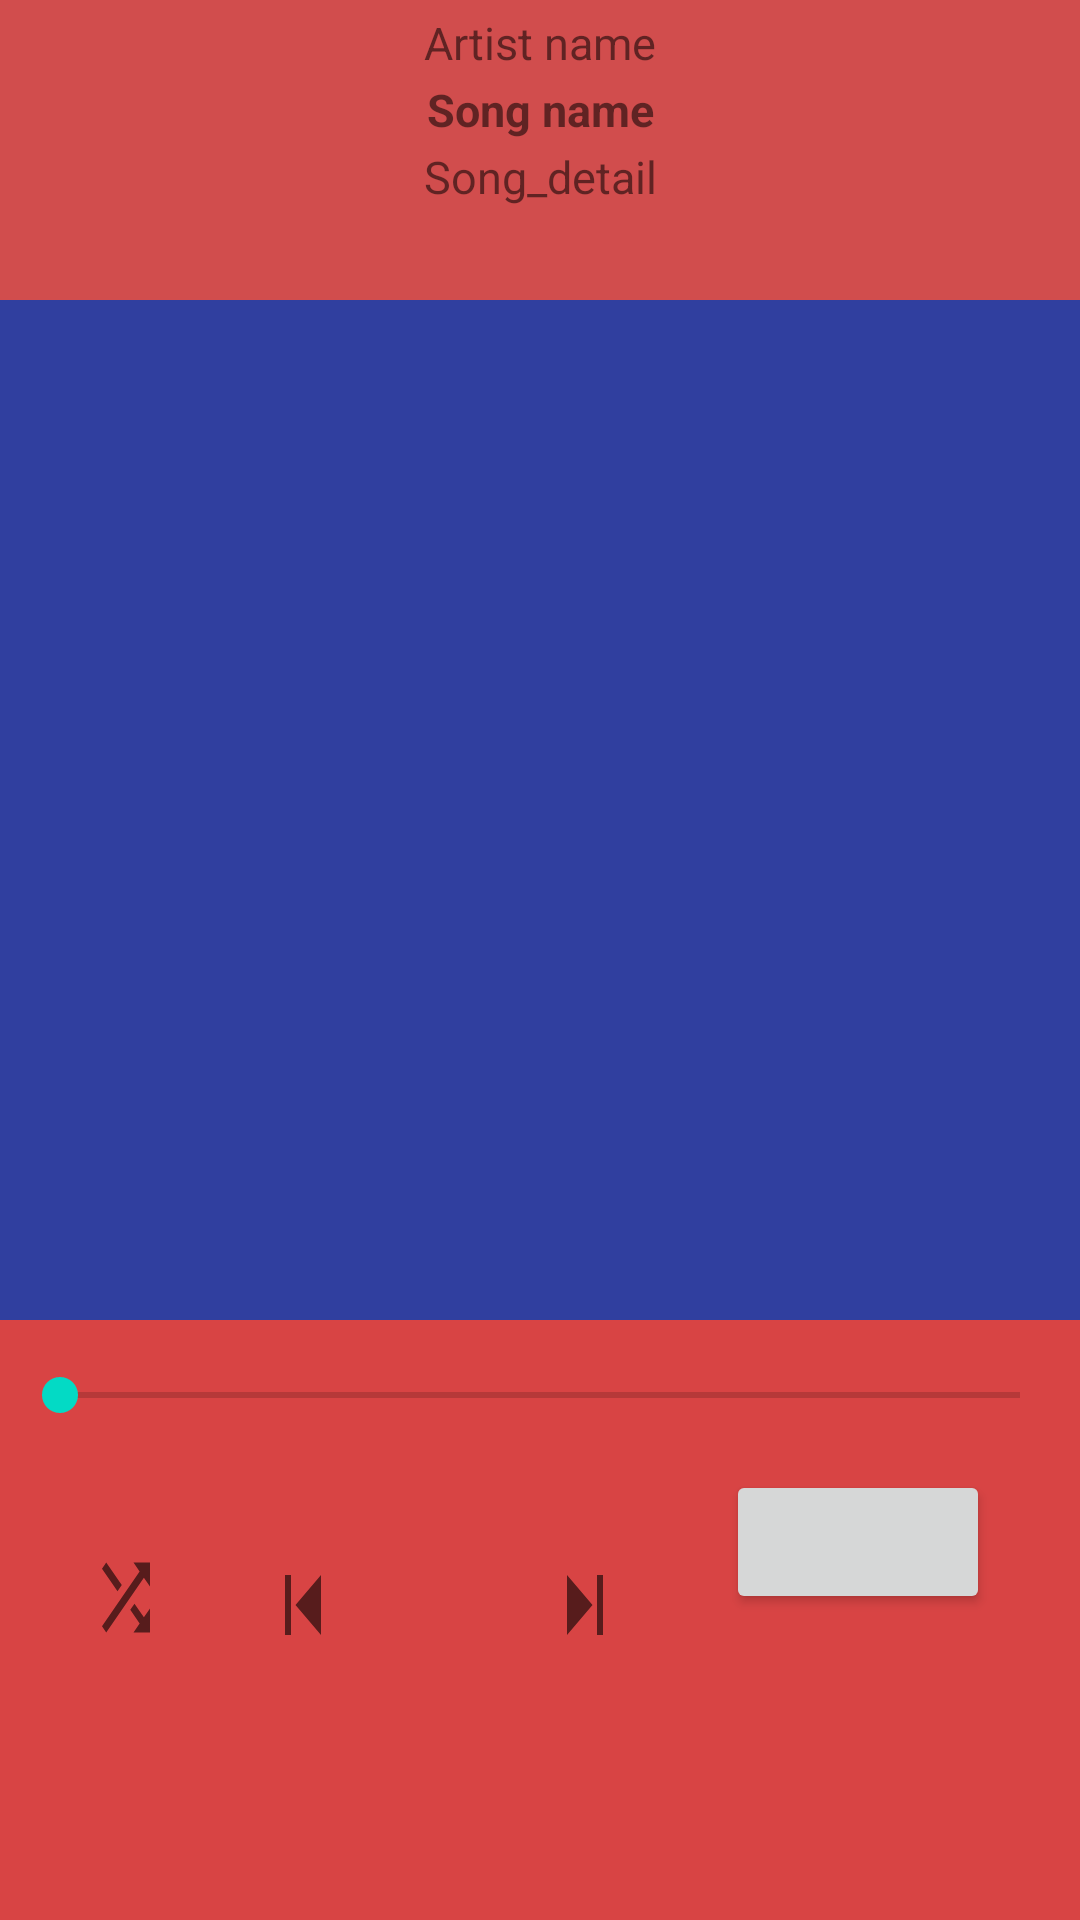

Icon click points for this 1080x1920 phone screenshot, format (x=x, y=y):
shuffle: (x=126, y=1597)
skip next: (x=585, y=1605)
skip previous: (x=303, y=1605)
